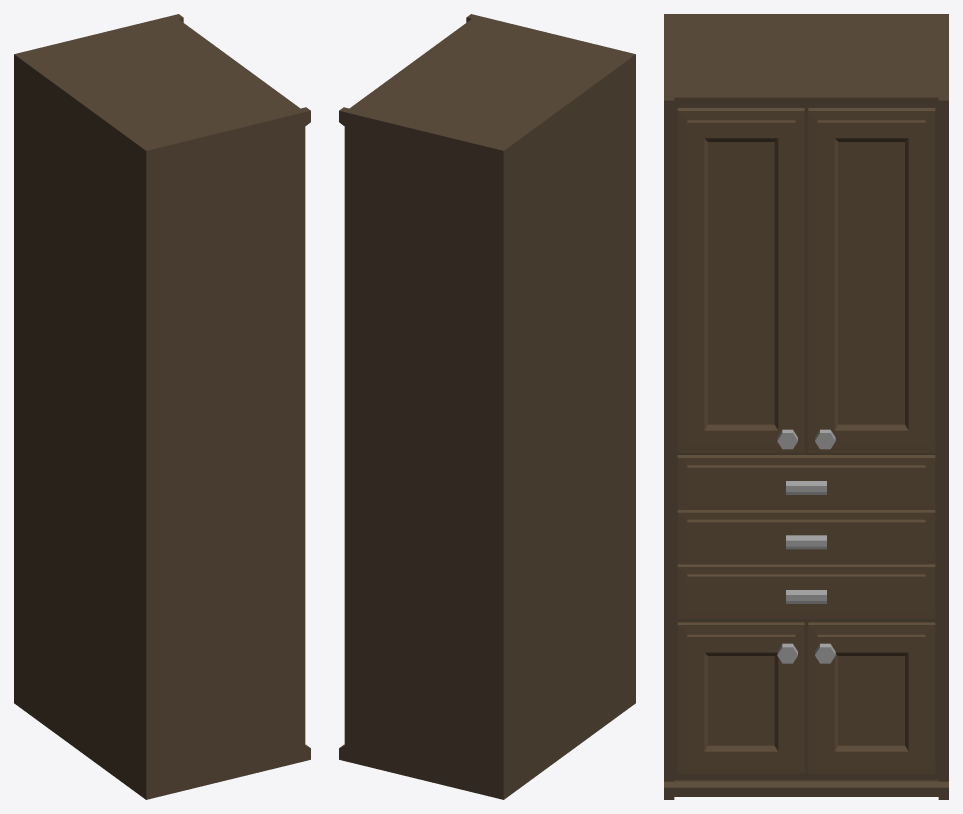
Rendered from SM_kitchenCabinet_009.glb.
The picture shows the model from 3 angles, left to right: view 1: azimuth 30°, elevation 25°; view 2: azimuth 150°, elevation 25°; view 3: azimuth 270°, elevation 25°; orthographic projection. The views are drawn at different scales.
Visible parts, largest first — view 1: SM_kitchenCabinet_009; view 2: SM_kitchenCabinet_009; view 3: SM_kitchenCabinet_009.
Boxes of the visible parts, left/top/right/bottom form: SM_kitchenCabinet_009: left=14, top=14, right=310, bottom=799; SM_kitchenCabinet_009: left=339, top=14, right=635, bottom=799; SM_kitchenCabinet_009: left=664, top=14, right=948, bottom=799.
Bounding box in the file's own units: 0.7492 × 2.71 × 1.
1 material, 1 textured.
